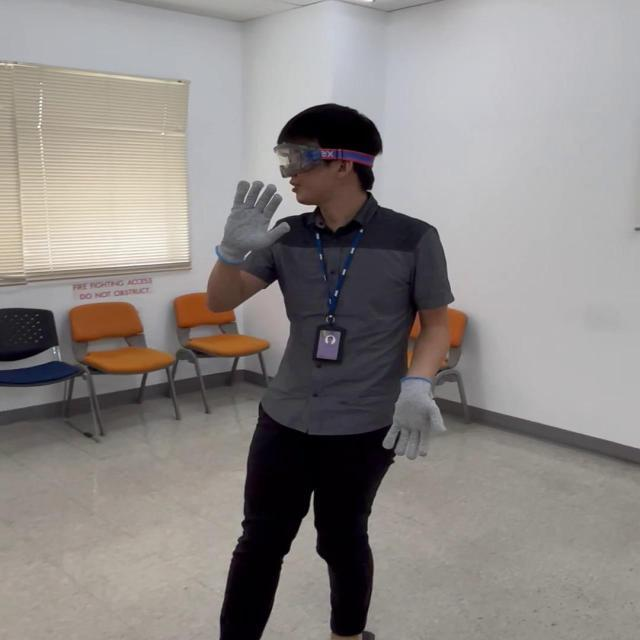gloved_hand: (216, 178, 292, 258), (380, 382, 452, 462)
